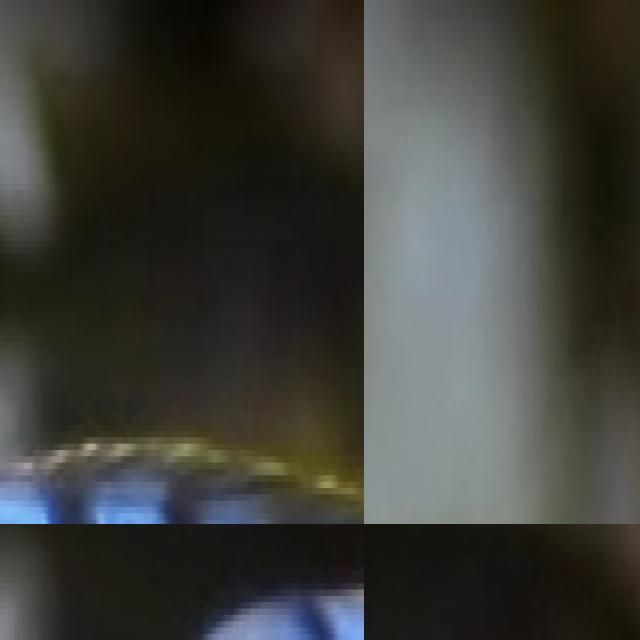fish: (0, 0, 364, 524), (364, 524, 640, 640)
